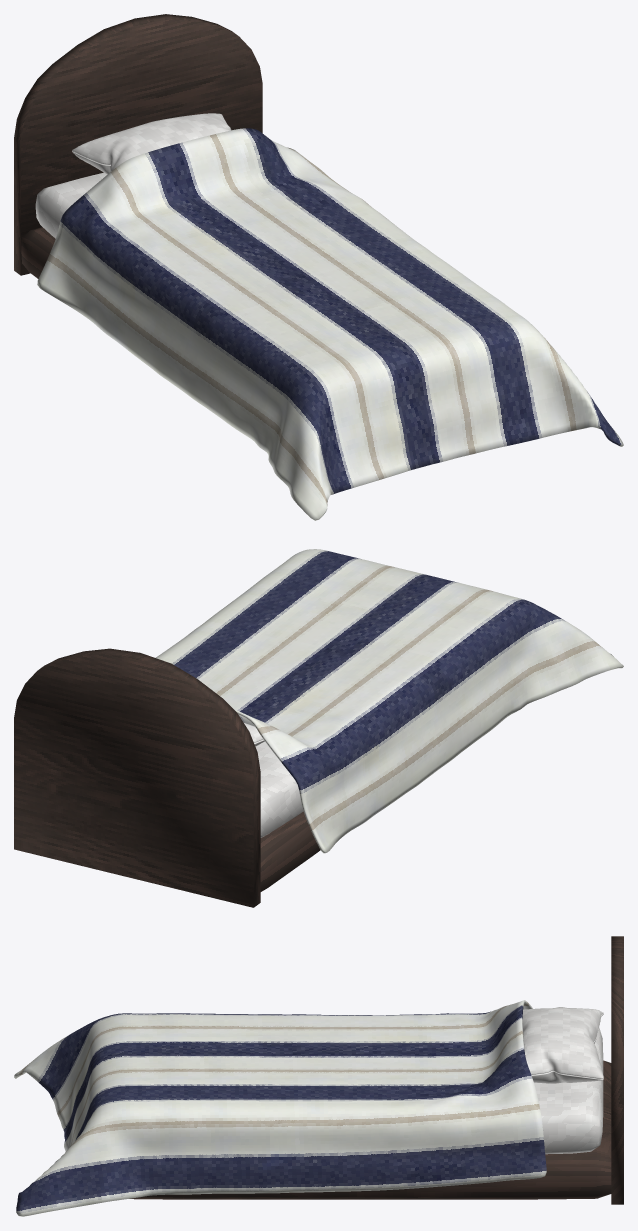
Rendered from Bed.glb.
3 renders of one model, top to bottom at view 1: azimuth 30°, elevation 25°; view 2: azimuth 150°, elevation 25°; view 3: azimuth 270°, elevation 25°, orthographic. The views are drawn at different scales.
Parts seen in each view (by area): view 1: Cover; view 2: Cover; view 3: Cover.
Part boxes in pixels (box(x1,y1,x2,y2)): Cover: box(14, 14, 623, 520); Cover: box(14, 549, 623, 907); Cover: box(14, 936, 623, 1216).
Bounding box in the file's own units: 1.32 × 0.8801 × 2.42.
Materials: 3 (3 with a texture image).
